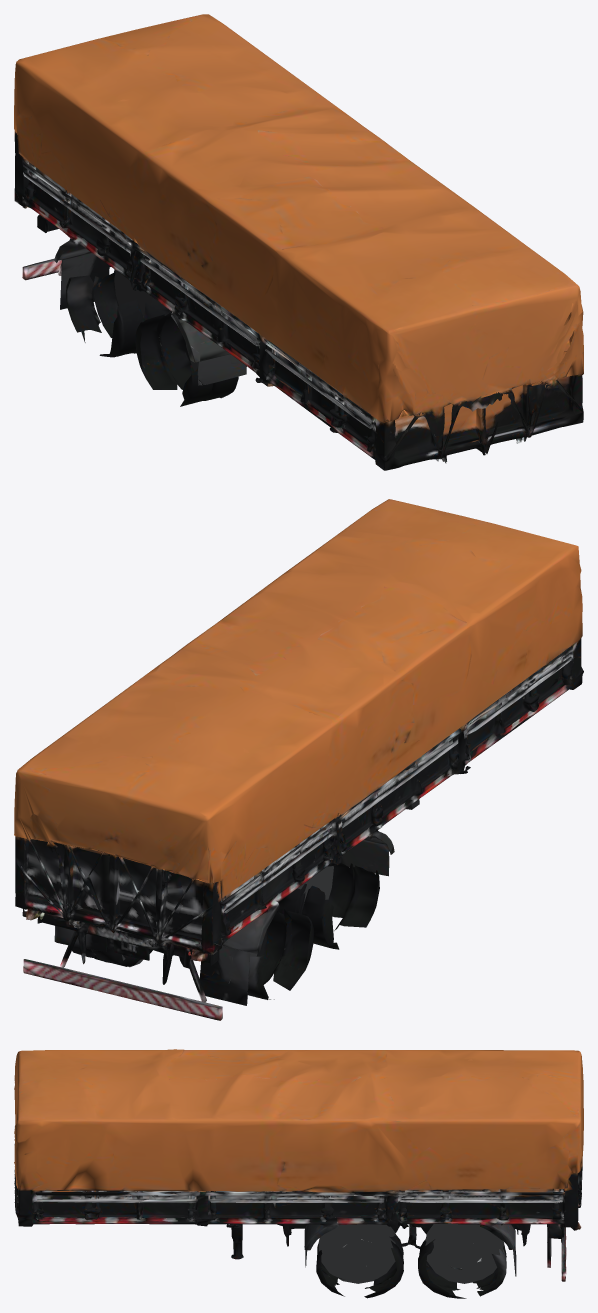
The model's file is bitrem_2.glb.
3 renders of one model, top to bottom at view 1: azimuth 30°, elevation 25°; view 2: azimuth 150°, elevation 25°; view 3: azimuth 270°, elevation 25°, orthographic. The views are drawn at different scales.
Visible parts, largest first — view 1: carroceria, chassi; view 2: carroceria; view 3: carroceria, chassi.
Boxes of the visible parts, left/top/right/bottom form: carroceria: left=14, top=14, right=583, bottom=470; chassi: left=114, top=269, right=229, bottom=398; carroceria: left=14, top=499, right=583, bottom=1020; carroceria: left=14, top=1049, right=583, bottom=1298; chassi: left=318, top=1224, right=504, bottom=1283.
Bounding box in the file's own units: 2.75 × 3.15 × 8.61.
Materials: 2 (1 with a texture image).
